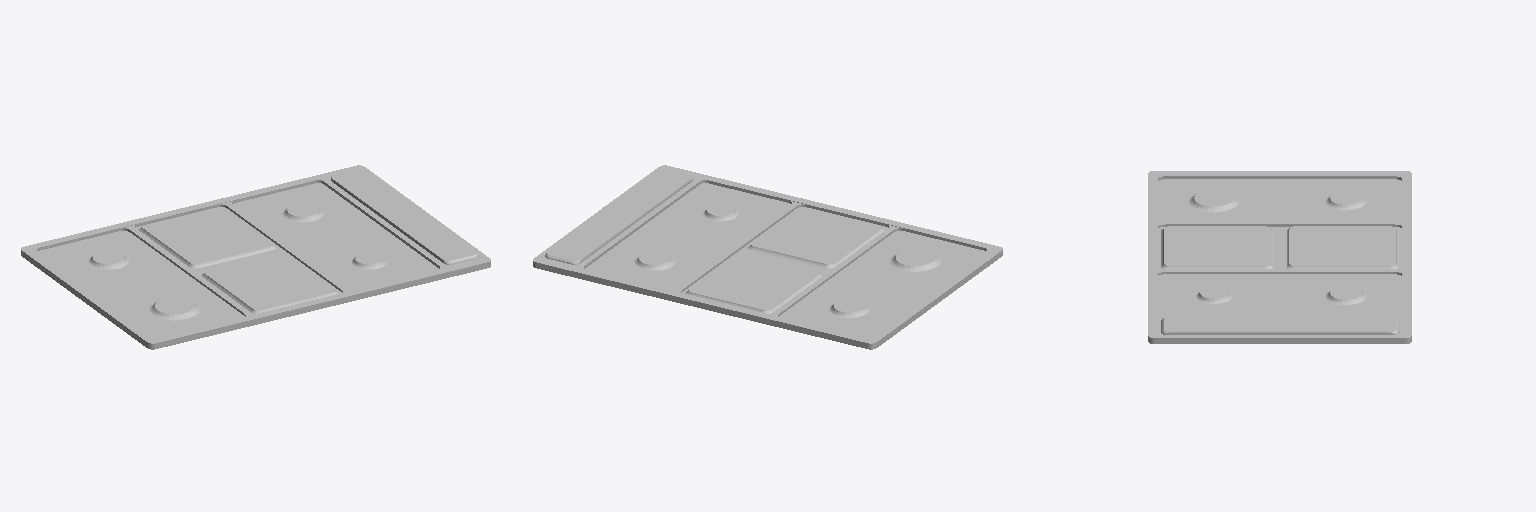
The model's file is housesp_083.obj.
3 views of the same model, side by side, from view 1: azimuth 30°, elevation 25°; view 2: azimuth 150°, elevation 25°; view 3: azimuth 270°, elevation 25° (orthographic).
Bounding box in the file's own units: 60 × 1.5 × 40.